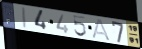4: (33, 9, 50, 33), (55, 14, 70, 34)
5: (73, 14, 88, 38)
7: (111, 20, 125, 44)
A: (91, 18, 112, 42)
I: (22, 6, 28, 31)
